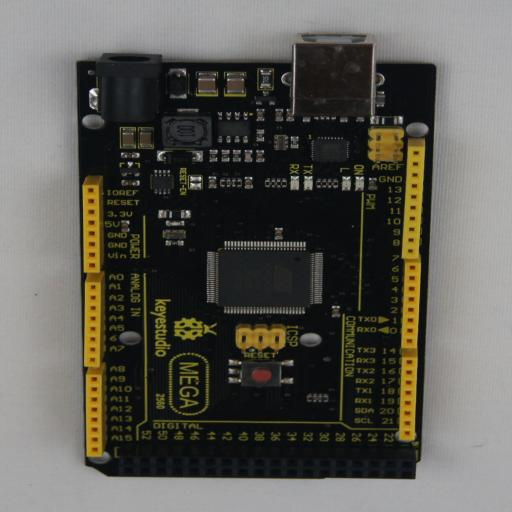Arduino Mega 2560 -Black and Yellow-: (77, 34, 436, 479)
